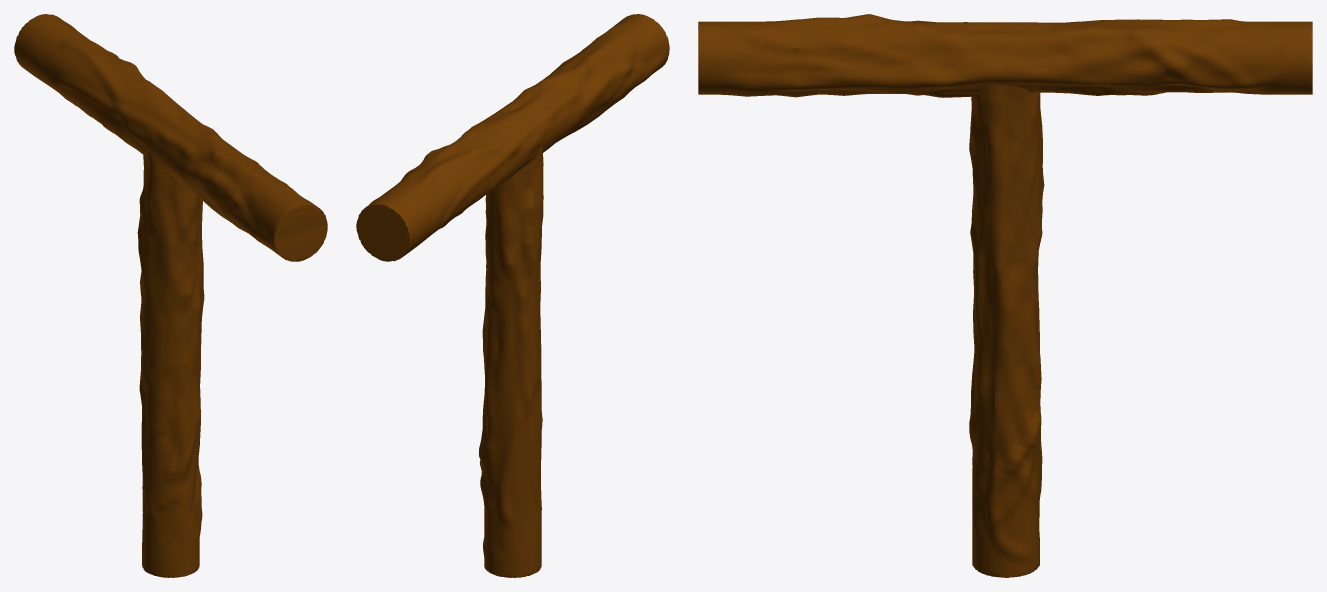
File: Falcon stand.fbx
3 renders of one model, left to right at view 1: azimuth 30°, elevation 25°; view 2: azimuth 150°, elevation 25°; view 3: azimuth 270°, elevation 25°, orthographic. The views are drawn at different scales.
Parts seen in each view (by area): view 1: Cylinder.001; view 2: Cylinder.001; view 3: Cylinder.001.
Boxes of the visible parts, box(x1,y1,x2,y2) form: Cylinder.001: box(14, 14, 327, 577); Cylinder.001: box(356, 14, 669, 577); Cylinder.001: box(698, 14, 1312, 577).
Size of the model in its own units: 23.45 by 168 by 173.
